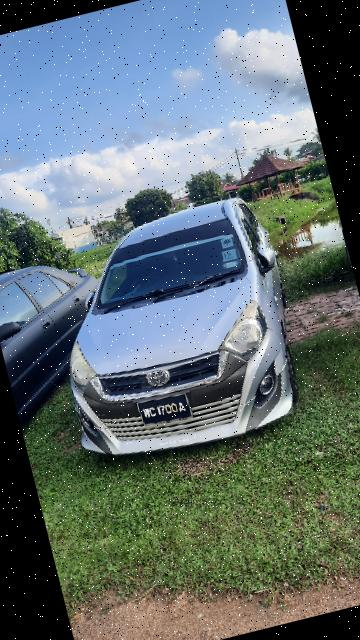License_Plate: (128, 387, 198, 434)
car: (28, 185, 315, 480)
